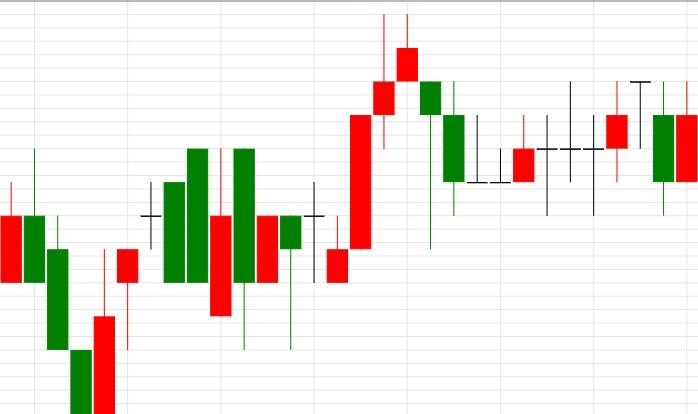evening_star_fall: (466, 81, 674, 216)
